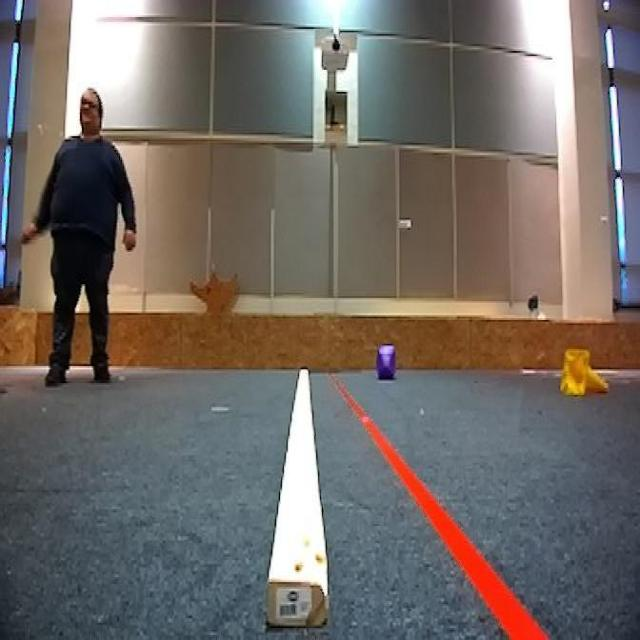frc_cone: (558, 344, 608, 398)
frc_cube: (375, 342, 399, 380)
